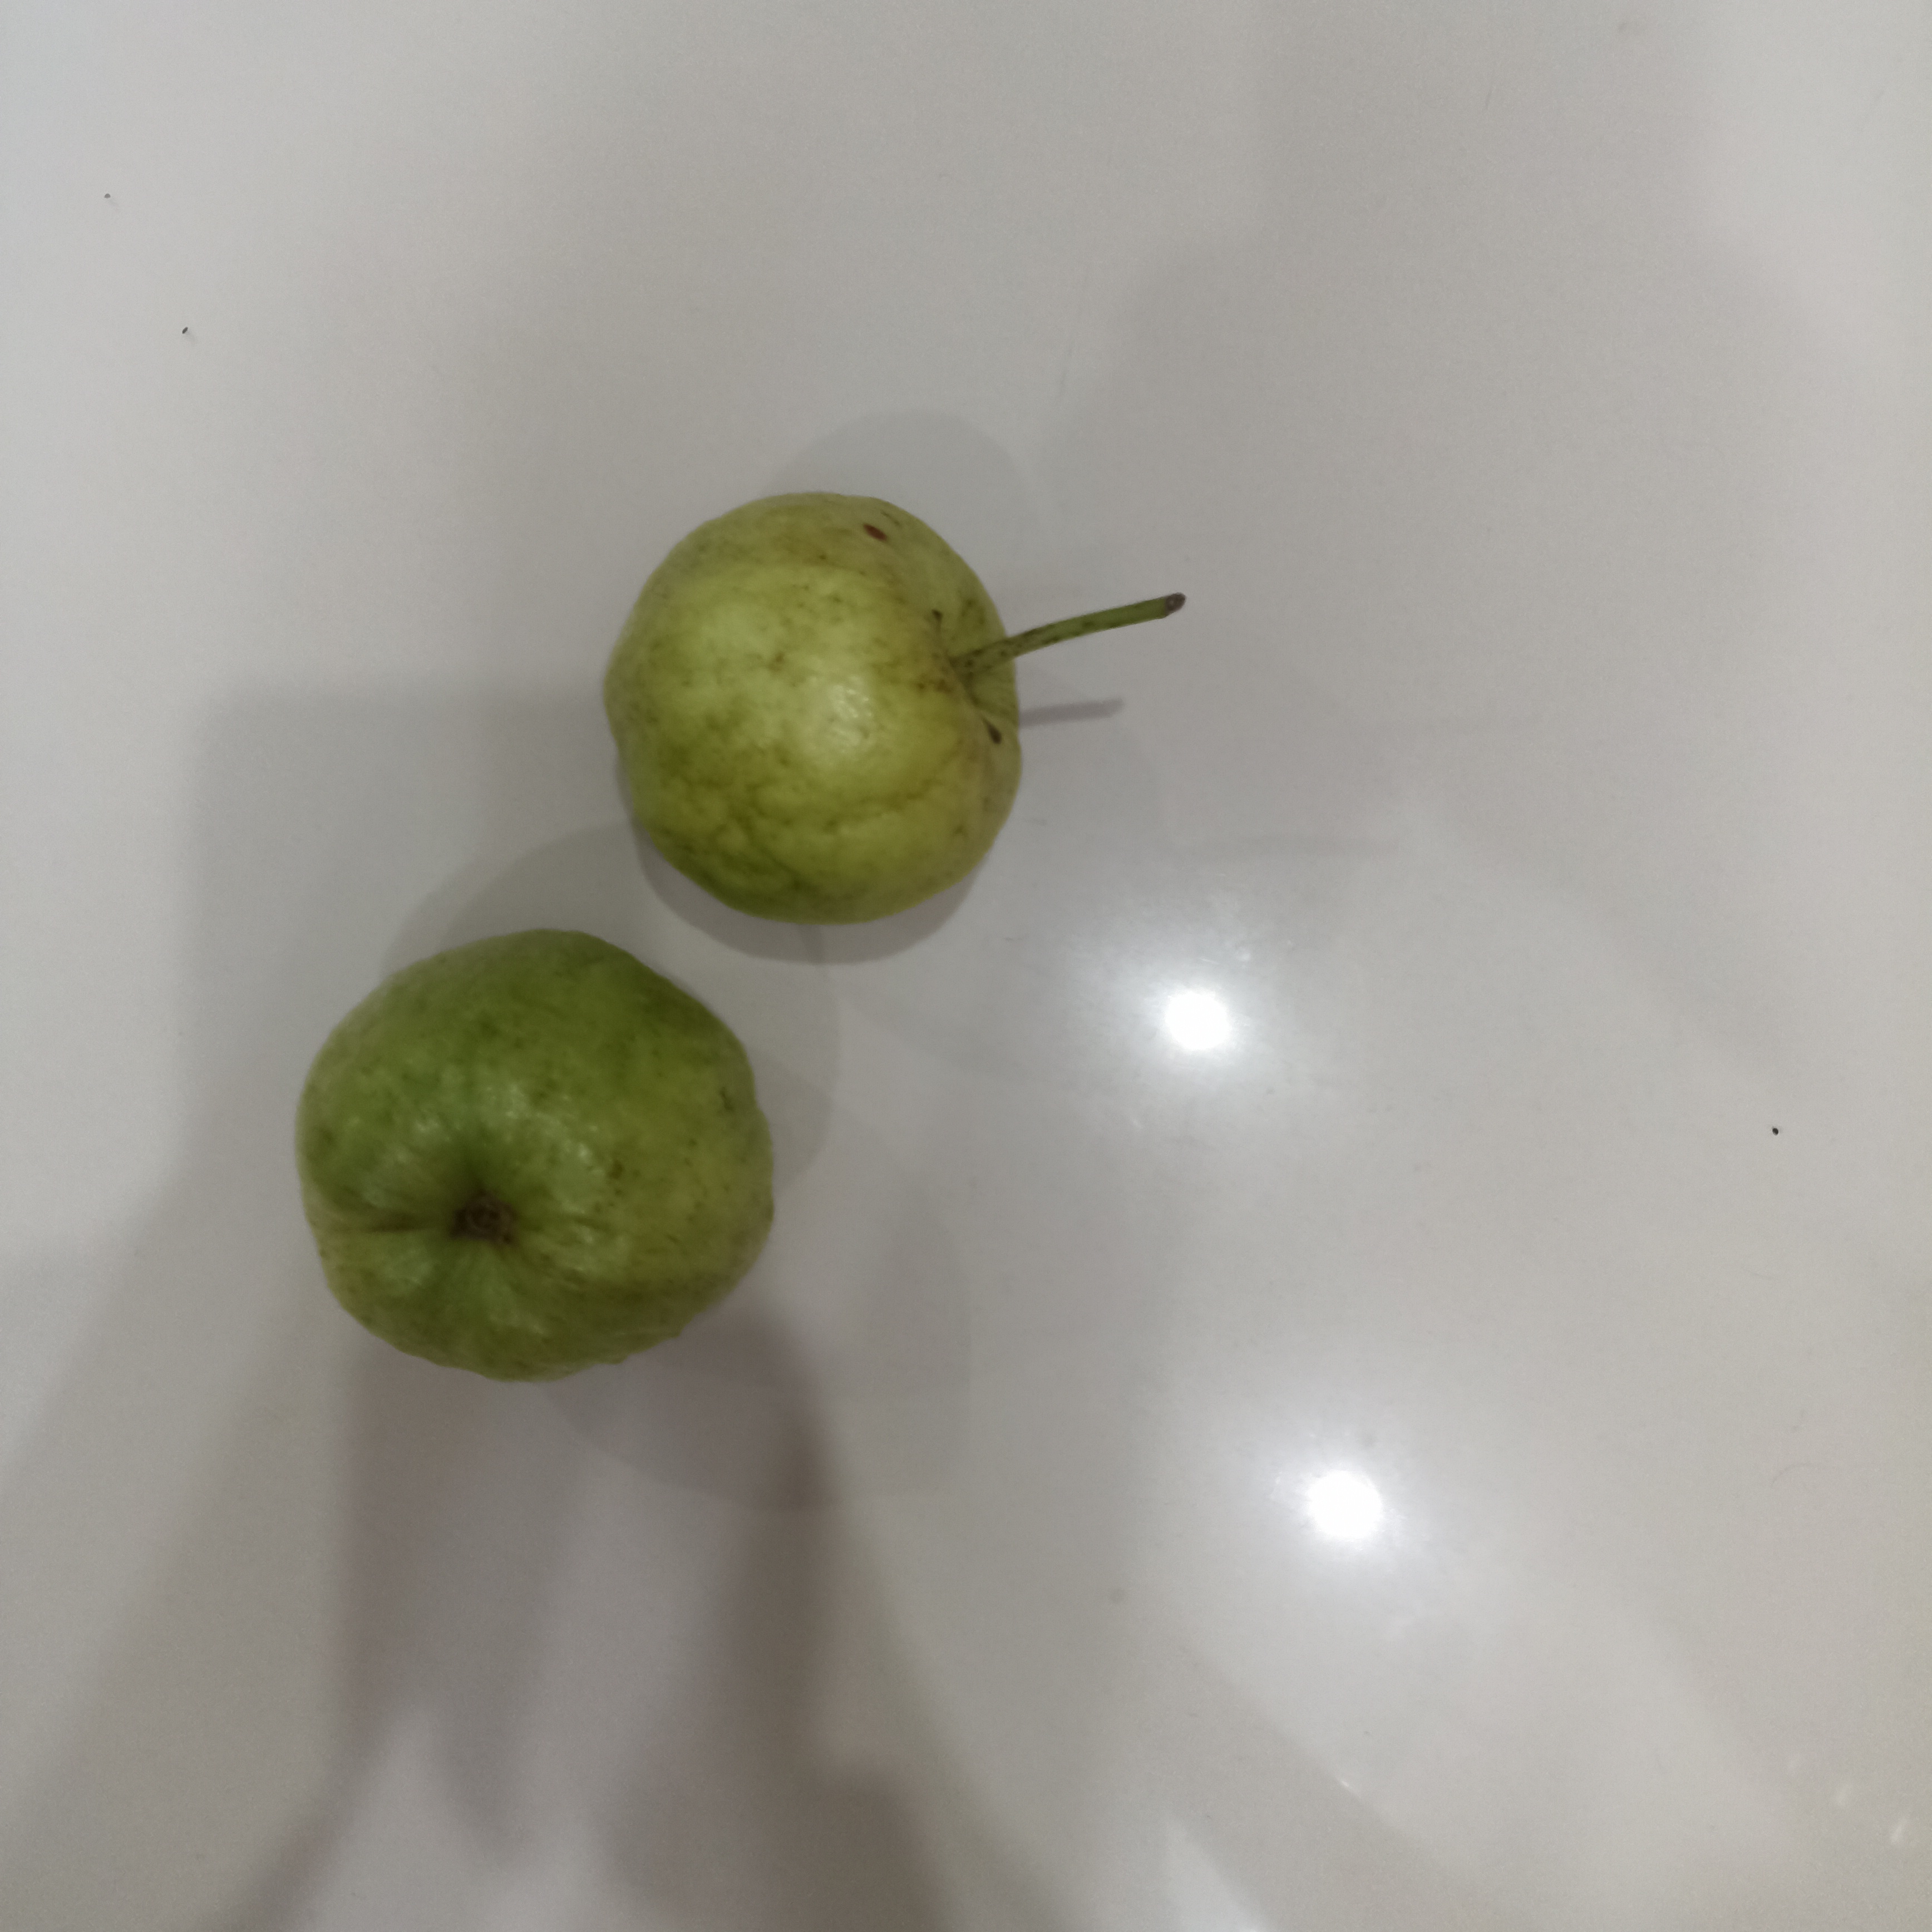Oi: (297, 930, 774, 1391), (596, 490, 1022, 924)
